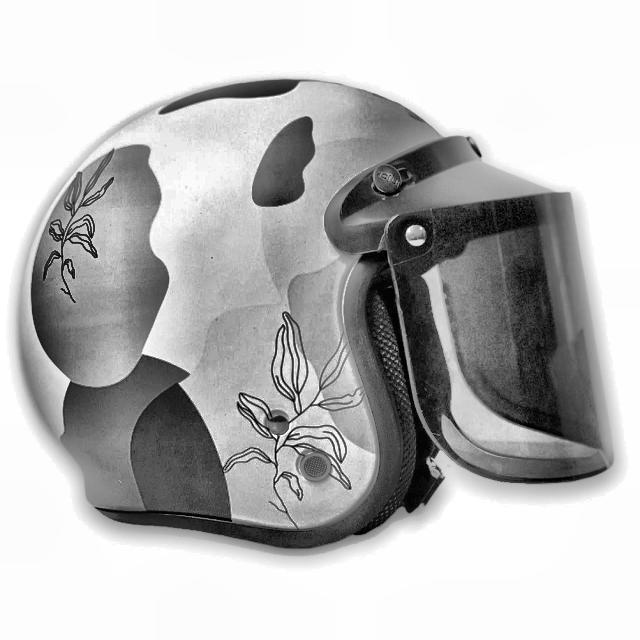Helmet: (21, 72, 623, 567)
